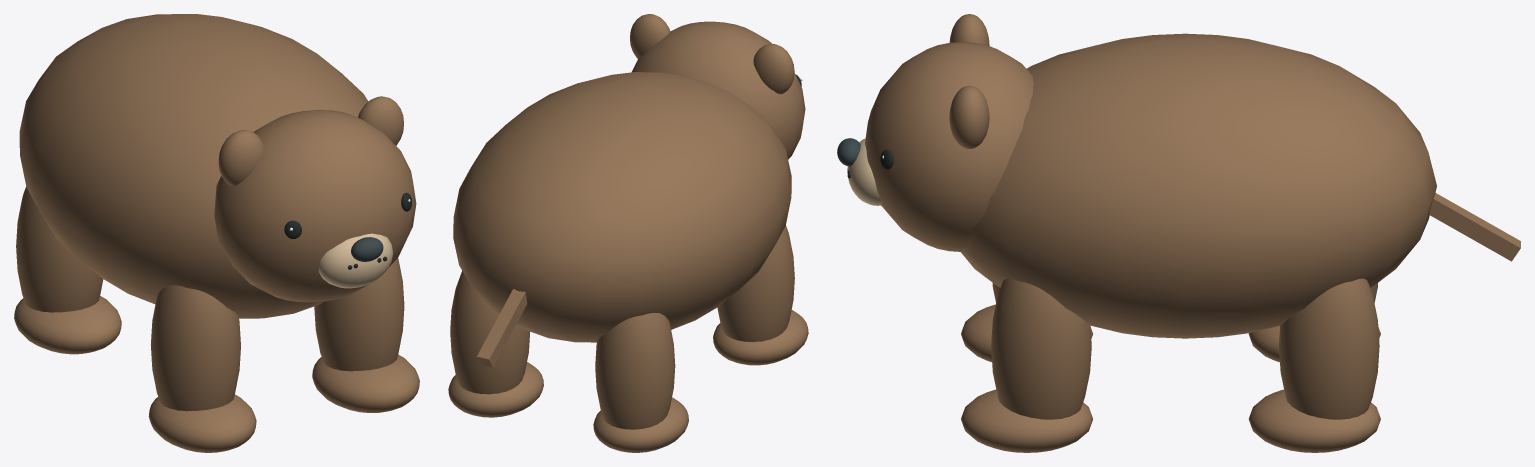
The model's file is city-bear.glb.
3 views of the same model, side by side, from view 1: azimuth 30°, elevation 25°; view 2: azimuth 150°, elevation 25°; view 3: azimuth 270°, elevation 25° (orthographic). The views are drawn at different scales.
Parts seen in each view (by area): view 1: Animal_bear, Walk_FL, Walk_FR, Walk_BL; view 2: Animal_bear, Walk_BL, Walk_BR, Walk_FL; view 3: Animal_bear, Walk_FR, Walk_BR, Walk_FL, Walk_BL.
Boxes of the visible parts, box(x1,y1,x2,y2) form: Animal_bear: box(19, 14, 416, 318); Walk_FL: box(148, 285, 256, 452); Walk_FR: box(312, 258, 419, 412); Walk_BL: box(14, 186, 121, 354); Animal_bear: box(453, 14, 805, 367); Walk_BL: box(593, 313, 688, 452); Walk_BR: box(448, 271, 543, 417); Walk_FL: box(713, 225, 808, 365); Animal_bear: box(837, 14, 1520, 338); Walk_FR: box(961, 278, 1092, 452); Walk_BR: box(1248, 278, 1380, 452); Walk_FL: box(961, 283, 1092, 362); Walk_BL: box(1248, 283, 1380, 362).
Bounding box in the file's own units: 2.6 × 2.71 × 4.75.
